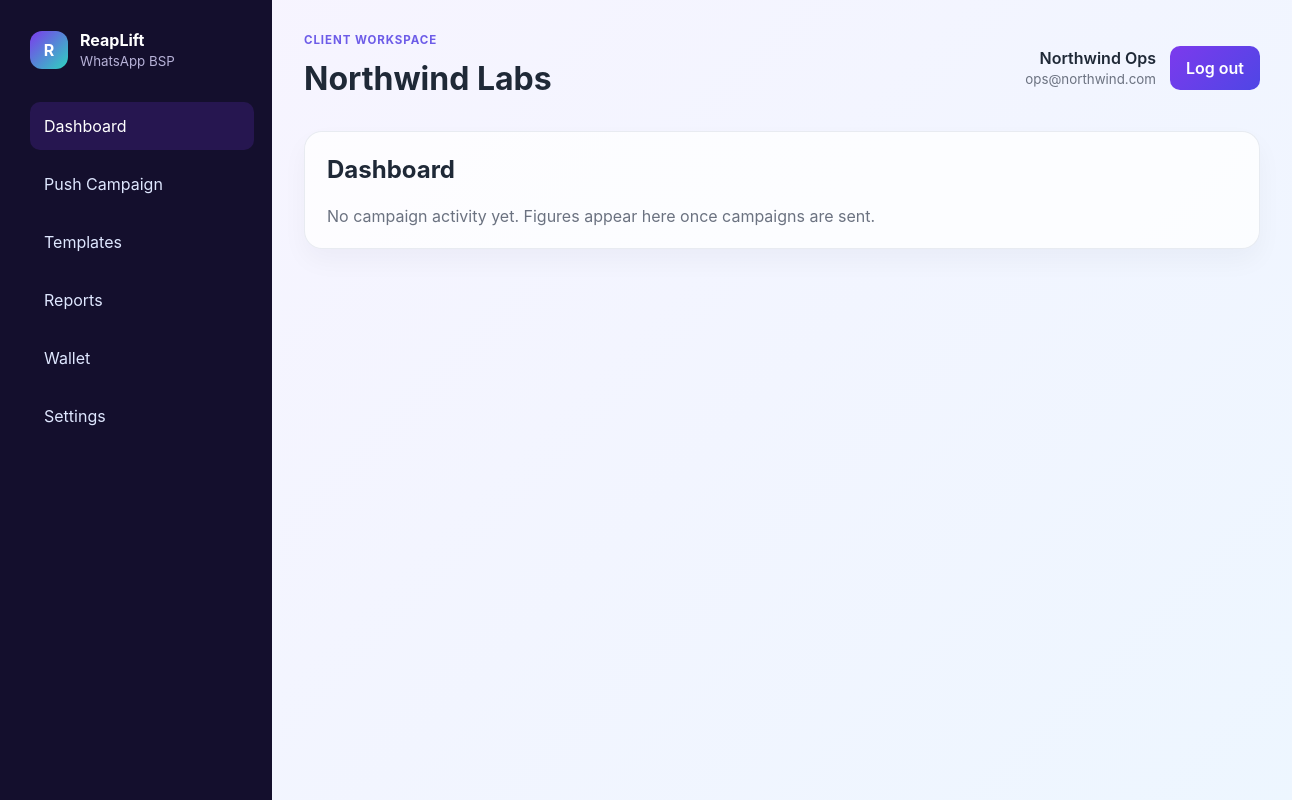
it: logging in and out through the page › a failed logout says so and keeps the user where they were
Expected: the heading "Dashboard" is shown, [327,152,455,188]
Click the button "Log out". click: (1215,68)
box: [1170,46,1260,90]
(page scrolled)
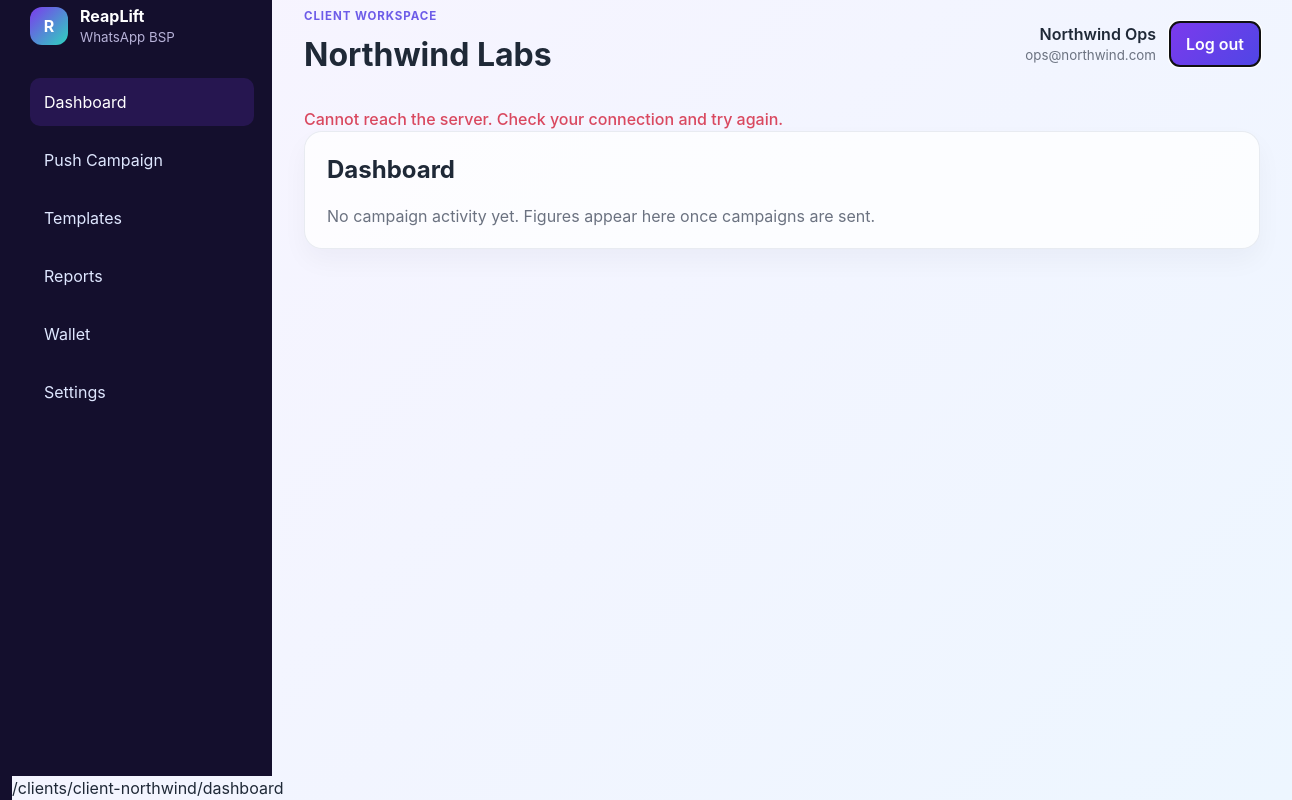
Now the message reads "Cannot reach the server. Check your connection and try again.", box [304,109,783,129]
